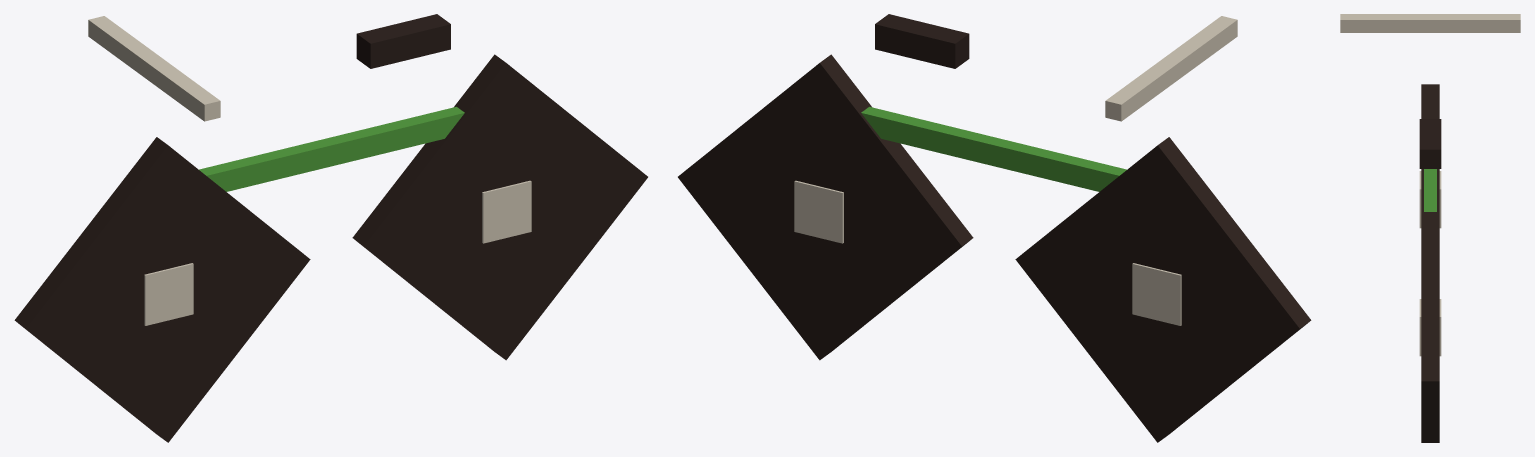
The model's file is bike_parkers.glb.
The picture shows the model from 3 angles, left to right: view 1: azimuth 30°, elevation 25°; view 2: azimuth 150°, elevation 25°; view 3: azimuth 270°, elevation 25°; orthographic projection. The views are drawn at different scales.
Parts seen in each view (by area): view 1: Box1, Box3, Box5, Box8, Box7, Box2, Box4; view 2: Box1, Box3, Box5, Box8, Box7, Box2, Box4; view 3: Box3, Box8, Box7, Box1, Box5, Box2, Box4.
Boxes of the visible parts, x1,y1,x2,y2 form: Box1: (14, 137, 310, 442); Box3: (352, 54, 647, 360); Box5: (199, 106, 464, 191); Box8: (88, 16, 220, 121); Box7: (356, 14, 450, 68); Box2: (144, 263, 193, 325); Box4: (482, 180, 531, 243); Box1: (1015, 137, 1311, 442); Box3: (678, 54, 973, 360); Box5: (861, 106, 1126, 191); Box8: (1105, 16, 1237, 121); Box7: (875, 14, 969, 68); Box2: (1132, 263, 1181, 325); Box4: (794, 180, 843, 243); Box3: (1421, 212, 1439, 442); Box8: (1340, 14, 1520, 32); Box7: (1419, 119, 1441, 168); Box1: (1421, 84, 1439, 211); Box5: (1424, 169, 1436, 211); Box2: (1419, 171, 1441, 228); Box4: (1419, 299, 1441, 356).
Size of the model in its own units: 1.55 by 0.9036 by 0.5.
